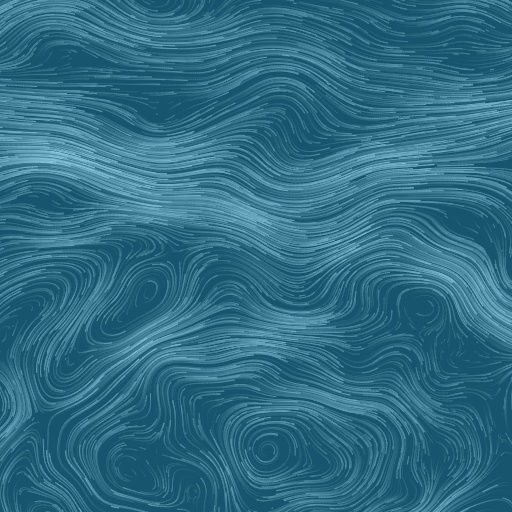eddy: (97, 265, 175, 341), (232, 416, 311, 486), (101, 444, 171, 501), (398, 282, 450, 336)
